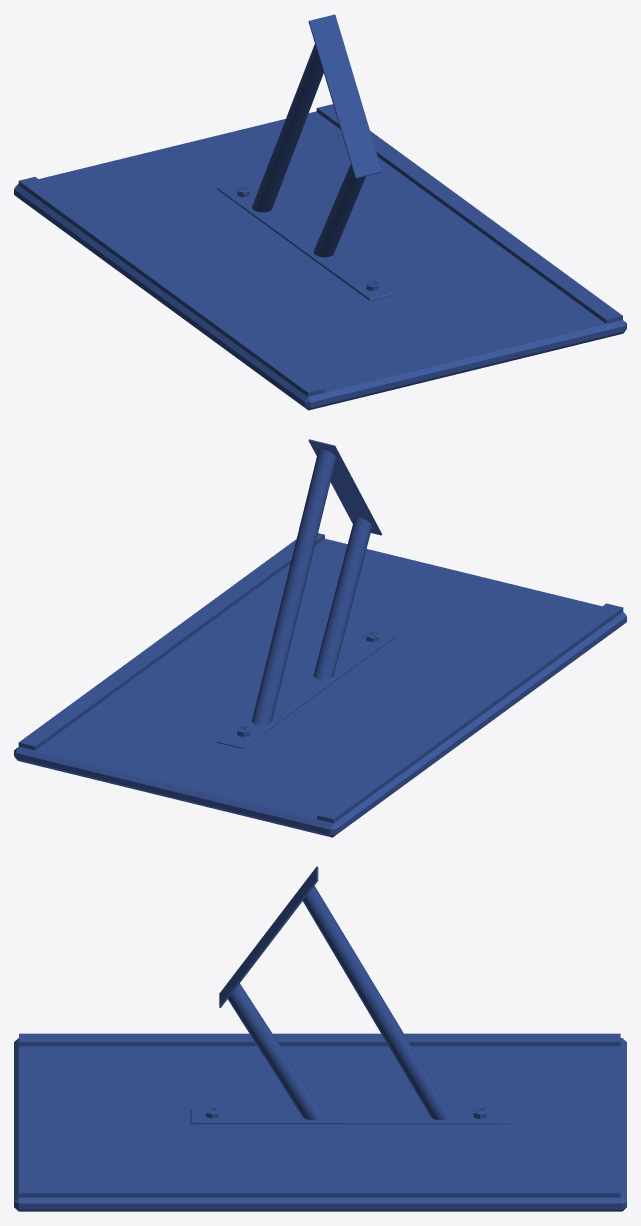
Rendered from TropheyStand.fbx.
3 renders of one model, top to bottom at view 1: azimuth 30°, elevation 25°; view 2: azimuth 150°, elevation 25°; view 3: azimuth 270°, elevation 25°, orthographic. The views are drawn at different scales.
Visible parts, largest first — view 1: pCube5; view 2: pCube5; view 3: pCube5.
Part boxes in pixels (x1=…): pCube5: x1=14, y1=14, x2=626, y2=410; pCube5: x1=14, y1=439, x2=626, y2=837; pCube5: x1=14, y1=866, x2=626, y2=1211.
Size of the model in its own units: 51.84 by 38.29 by 82.15.
